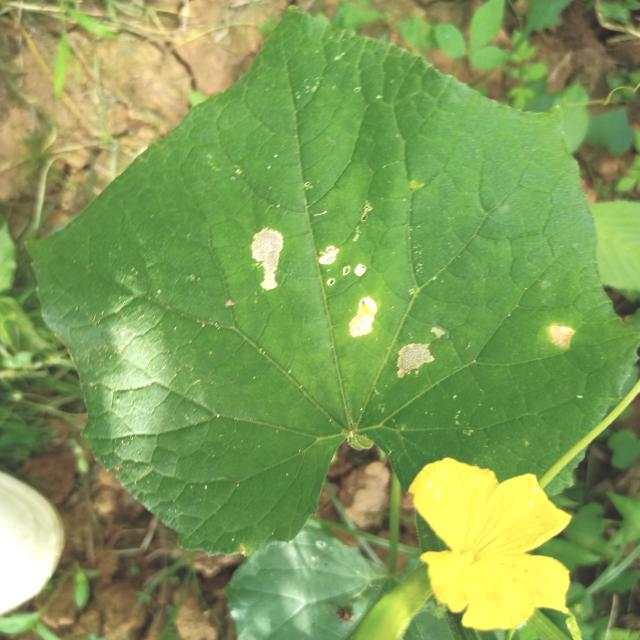disease_cucumber: (250, 225, 447, 378), (550, 322, 574, 351)
